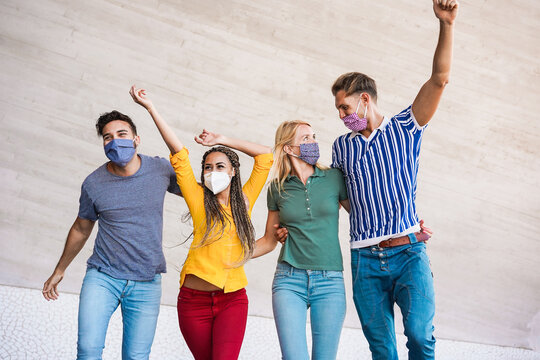with_incorrect_mask: (332, 89, 380, 132)
with_mask: (280, 126, 320, 166), (102, 123, 137, 164), (204, 155, 233, 193)
